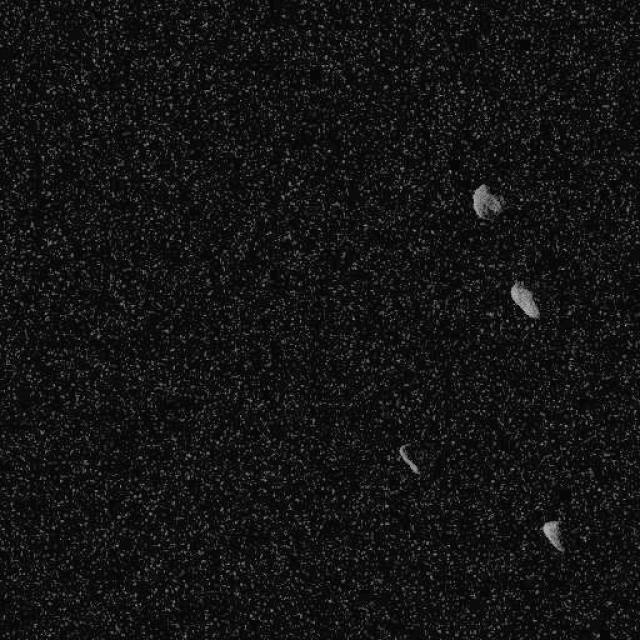D2: (470, 182, 504, 222), (509, 280, 540, 320), (540, 518, 565, 552), (396, 443, 420, 475)
